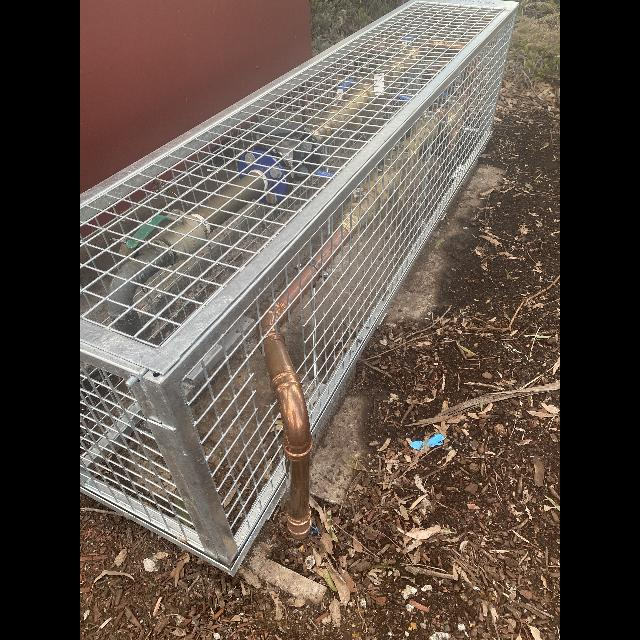Brass: (352, 205, 359, 229), (360, 196, 367, 218), (367, 204, 374, 226), (339, 108, 360, 115), (383, 169, 390, 190), (390, 160, 397, 181), (343, 201, 350, 220), (369, 186, 375, 208), (376, 177, 382, 199), (332, 115, 353, 121), (375, 195, 381, 216), (354, 97, 374, 103), (382, 187, 388, 207), (395, 170, 401, 190), (343, 215, 350, 232), (347, 102, 366, 108), (370, 171, 376, 190), (389, 179, 395, 198), (329, 121, 345, 128), (342, 124, 360, 130), (360, 213, 366, 231), (415, 133, 420, 151), (413, 149, 418, 167), (420, 127, 425, 144), (411, 124, 416, 141), (430, 115, 435, 132), (410, 139, 415, 155), (322, 113, 335, 119), (352, 224, 358, 237), (361, 182, 368, 193), (328, 107, 343, 112), (355, 85, 370, 90), (417, 120, 422, 135), (350, 117, 362, 123), (362, 92, 375, 97), (428, 131, 433, 144), (426, 121, 430, 137), (352, 90, 364, 95), (377, 172, 383, 181), (347, 96, 357, 101), (315, 136, 322, 143), (405, 137, 409, 148), (326, 128, 331, 136), (342, 102, 350, 107), (424, 137, 428, 147), (314, 131, 321, 135), (317, 122, 324, 125), (323, 124, 329, 127), (368, 88, 373, 91), (311, 130, 315, 132)
Copper: (263, 310, 313, 539), (261, 306, 275, 336), (275, 300, 287, 320), (261, 303, 272, 316), (256, 324, 260, 344), (258, 344, 262, 354)
Galvanized Steel: (80, 0, 520, 577)
